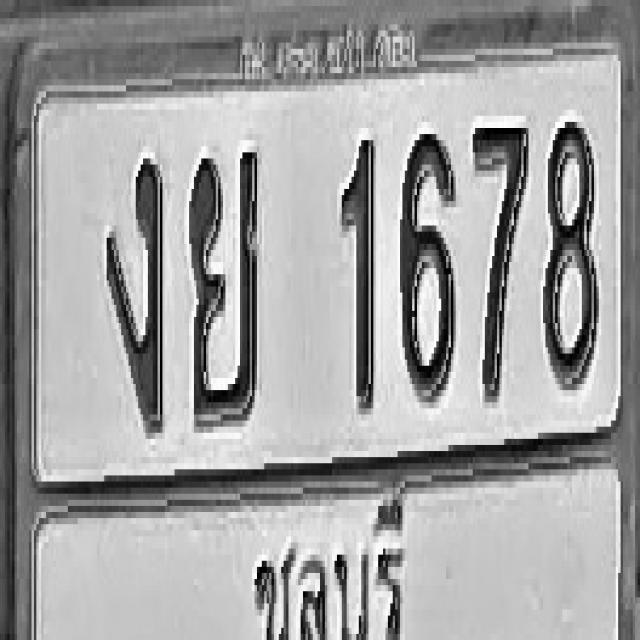1: (339, 134, 376, 408)
16NgorNgu: (104, 149, 162, 430)
43YorYak: (189, 143, 259, 424)
6: (400, 125, 456, 399)
7: (472, 119, 528, 399)
8: (542, 113, 598, 381)
Chonburi: (242, 475, 422, 640)
